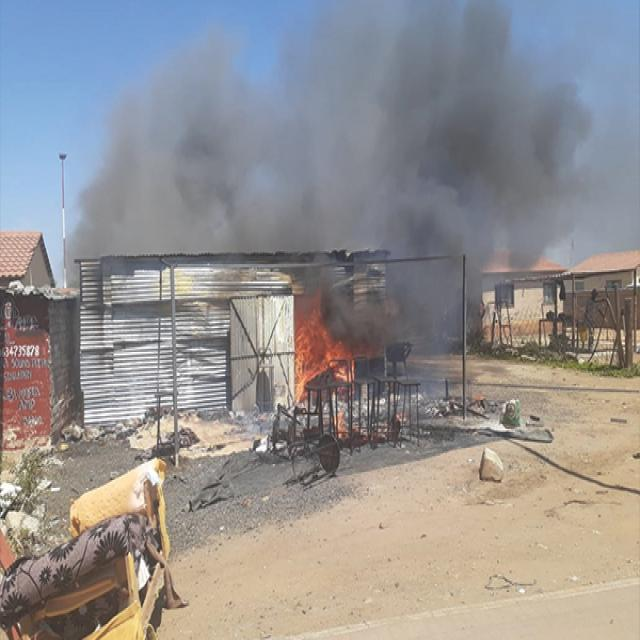smoke: (155, 79, 557, 234)
